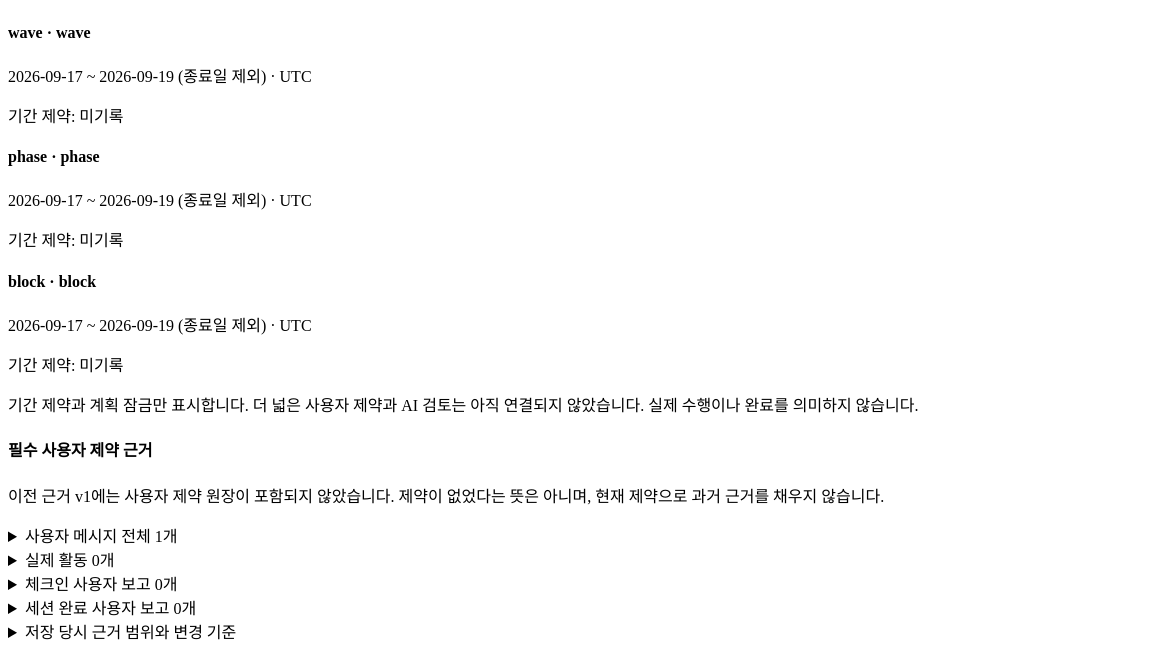
Test: frozen evidence view › keeps empty reports and absent consent explicit without inventing healthy states or zero totals
This screenshot has width=1152, height=651.
(page scrolled)
Click the heading "실제 활동 0개": click(70, 560) [25, 552, 114, 568]
(page scrolled)
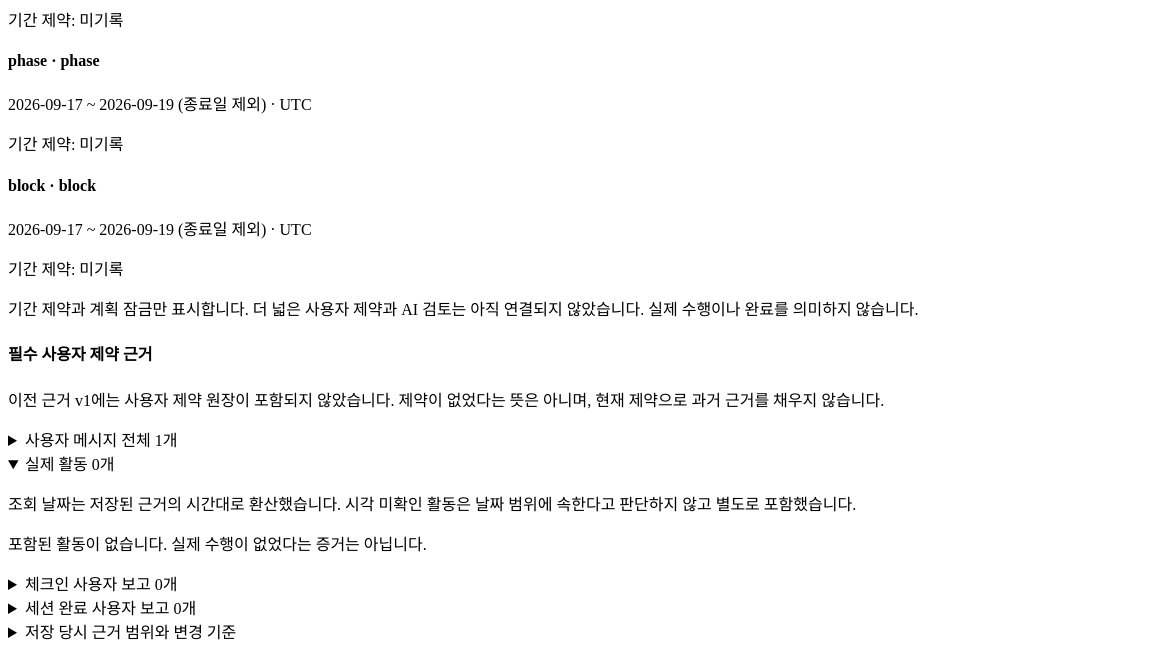
Check: the text "포함된 활동이 없습니다. 실제 수행이 없었다는 증거는 아닙니다." is shown, box [8, 536, 427, 552]
Click the heading "체크인 사용자 보고 0개": click(101, 584) [25, 576, 177, 592]
(page scrolled)
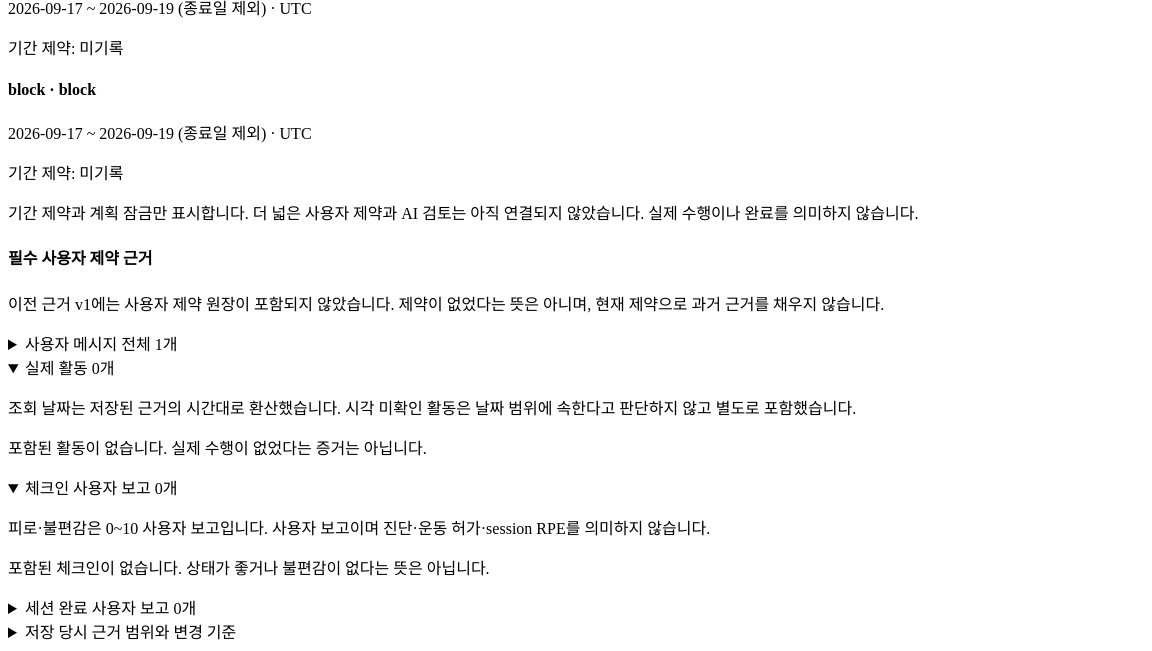
Check: the text "포함된 체크인이 없습니다. 상태가 좋거나 불편감이 없다는 뜻은 아닙니다." is shown, box [8, 560, 490, 576]
Click the heading "저장 당시 근거 범위와 변경 기준": click(131, 632) [25, 624, 236, 640]
(page scrolled)
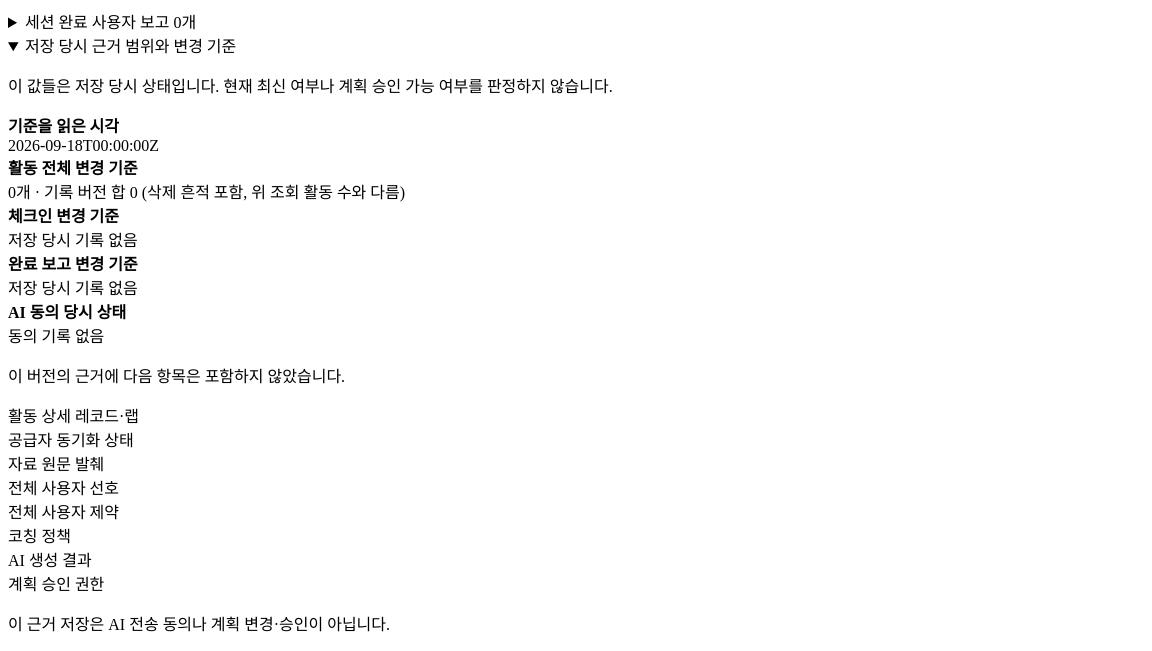
Check: the text "동의 기록 없음" is shown, box [8, 328, 104, 344]
